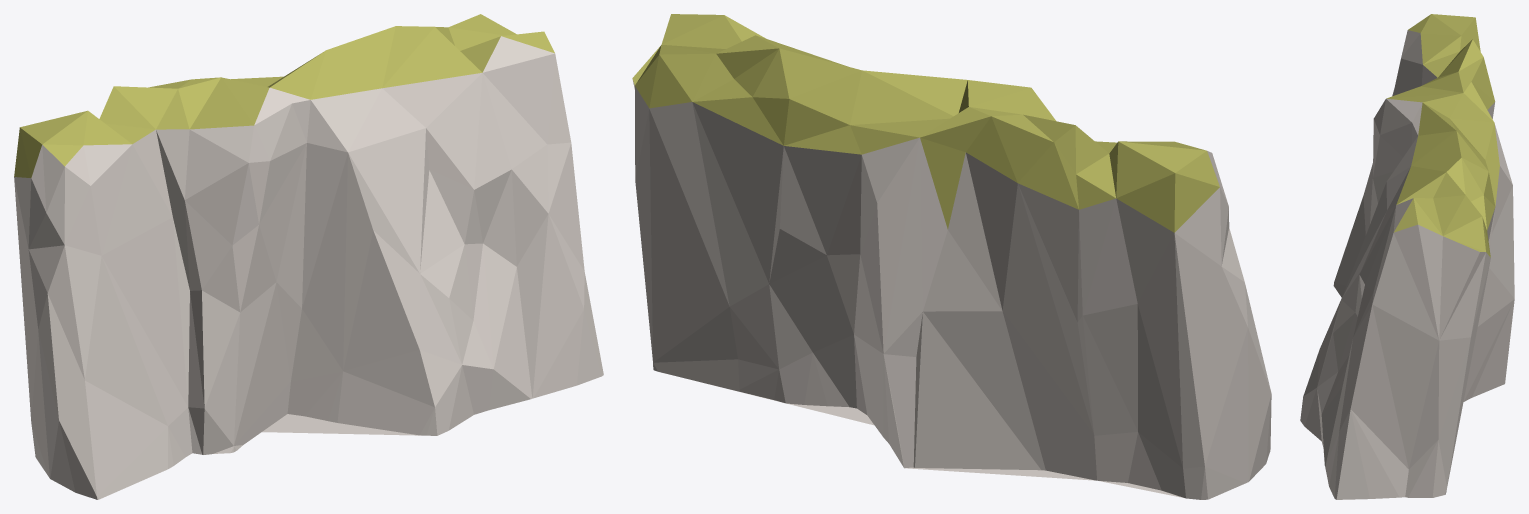
The model's file is ridge_wall.fbx.
3 renders of one model, left to right at view 1: azimuth 30°, elevation 25°; view 2: azimuth 150°, elevation 25°; view 3: azimuth 270°, elevation 25°, orthographic. The views are drawn at different scales.
Parts seen in each view (by area): view 1: ridge_wall_LOD0; view 2: ridge_wall_LOD0; view 3: ridge_wall_LOD0.
Part boxes in pixels (x1,y1,x2,y2): ridge_wall_LOD0: (14,14,603,499); ridge_wall_LOD0: (632,14,1271,499); ridge_wall_LOD0: (1300,14,1514,499).
Size of what is drawn, in the model's own units: 2715 by 1629 by 1103.
